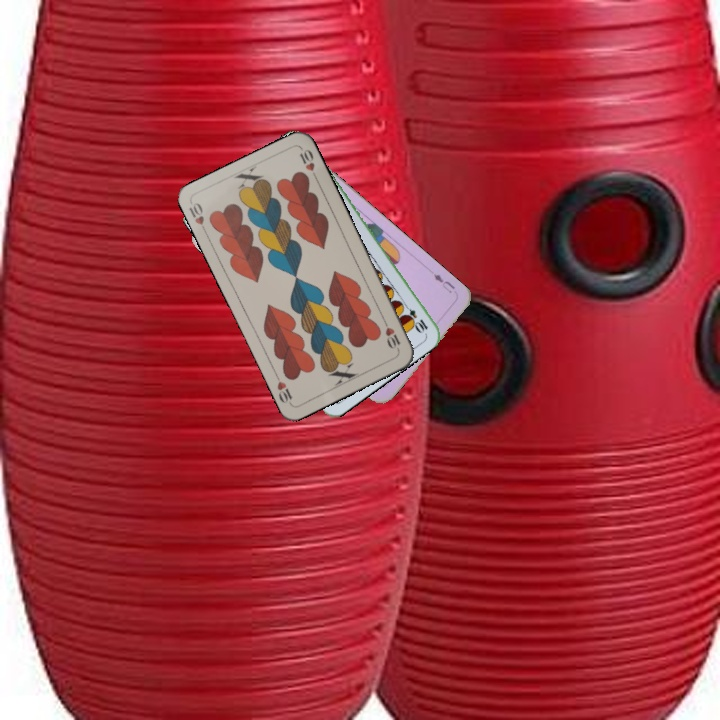E10: (399, 299, 430, 335)
EU: (429, 270, 458, 296)
H10: (185, 198, 210, 237), (379, 315, 403, 353)
